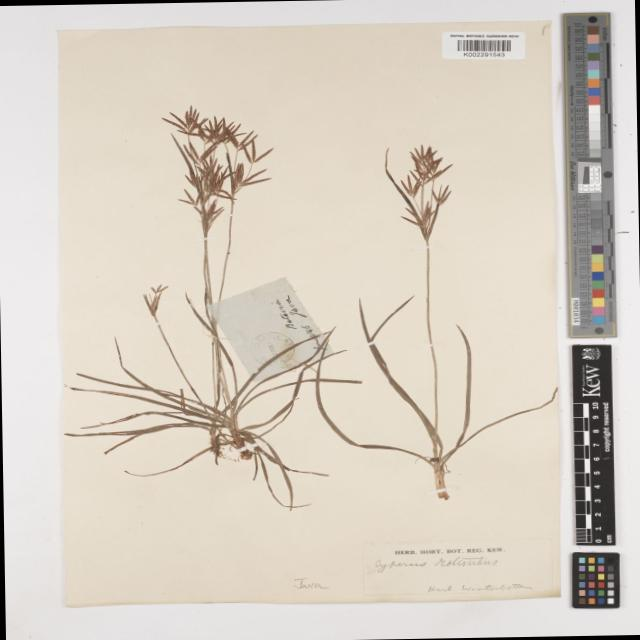cyperus: (148, 100, 274, 228), (368, 137, 476, 238)
